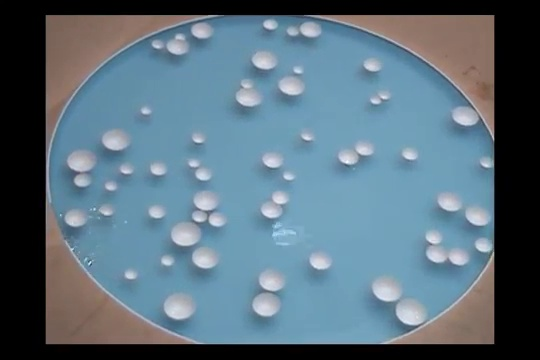bowl: (162, 292, 198, 320), (393, 298, 430, 325), (372, 275, 406, 303), (170, 219, 205, 246), (251, 292, 283, 318), (66, 150, 98, 175), (100, 128, 133, 152), (450, 104, 482, 128), (192, 245, 220, 270), (62, 206, 92, 229), (258, 268, 287, 291), (436, 190, 466, 212), (463, 204, 491, 227), (250, 50, 280, 71), (234, 88, 264, 109), (166, 34, 191, 58), (423, 244, 448, 268), (278, 75, 306, 96), (306, 251, 334, 271), (194, 190, 220, 211), (336, 146, 361, 167), (447, 245, 472, 266), (261, 150, 287, 170), (260, 202, 286, 220), (300, 20, 323, 40), (191, 22, 215, 40), (362, 56, 385, 74), (206, 210, 228, 228), (356, 139, 376, 158), (473, 235, 493, 253), (97, 202, 118, 219), (147, 203, 168, 220), (423, 229, 445, 245), (72, 172, 93, 188), (298, 128, 318, 144), (262, 17, 281, 33), (401, 146, 420, 162), (271, 190, 291, 205), (119, 161, 137, 177), (150, 161, 168, 177), (194, 167, 212, 183), (158, 254, 177, 268), (191, 210, 208, 224), (124, 267, 140, 281), (191, 131, 207, 145), (480, 155, 494, 171), (283, 167, 297, 183), (240, 77, 257, 90), (368, 97, 385, 110), (285, 25, 301, 38), (152, 38, 167, 51), (378, 89, 393, 102), (139, 104, 153, 117), (290, 65, 307, 75), (104, 180, 119, 191), (187, 157, 202, 167), (174, 32, 187, 40)
